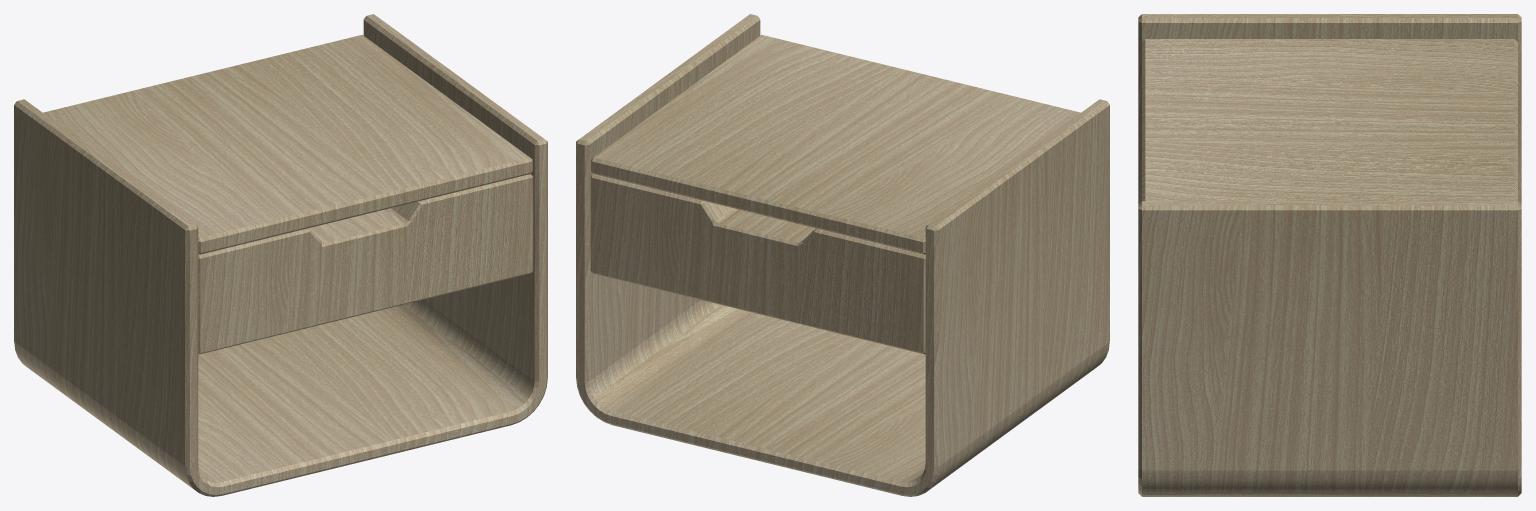
The model's file is drawer.obj.
The picture shows the model from 3 angles, left to right: view 1: azimuth 30°, elevation 25°; view 2: azimuth 150°, elevation 25°; view 3: azimuth 270°, elevation 25°; orthographic projection. The views are drawn at different scales.
Parts seen in each view (by area): view 1: Rectangle01, Box01, Box02; view 2: Rectangle01, Box01, Box02; view 3: Rectangle01, Box01.
Boxes of the visible parts, <box> form: Rectangle01: <box>14,14,547,496</box>; Box01: <box>43,34,532,254</box>; Box02: <box>198,174,533,354</box>; Rectangle01: <box>576,14,1109,496</box>; Box01: <box>591,34,1080,254</box>; Box02: <box>590,174,925,354</box>; Rectangle01: <box>1138,14,1521,496</box>; Box01: <box>1142,39,1517,201</box>.
Size of the model in its own units: 289 by 212 by 241.
